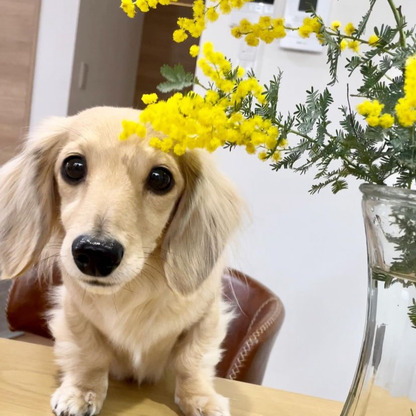dachshund: (14, 96, 257, 410)
